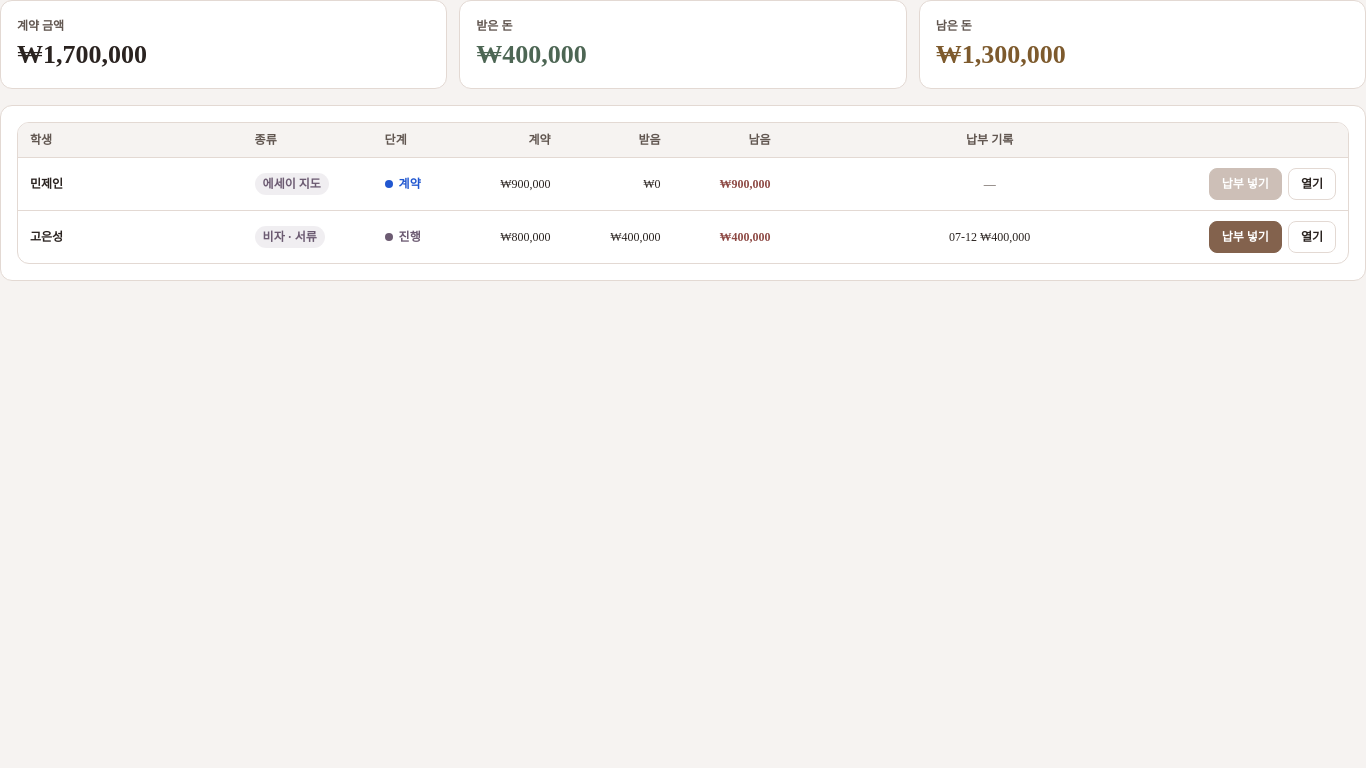
Scenario: 「청구서로 전환」은 서버의 canInvoice 를 따른다 — 화면이 단계를 다시 읽지 않는다 (D-R39)
What coordinates should you click on to do the following:
click the button "열기" in the row of "민제인"
I would click on:
 (1312, 184)
Its box is [1288, 168, 1336, 200].
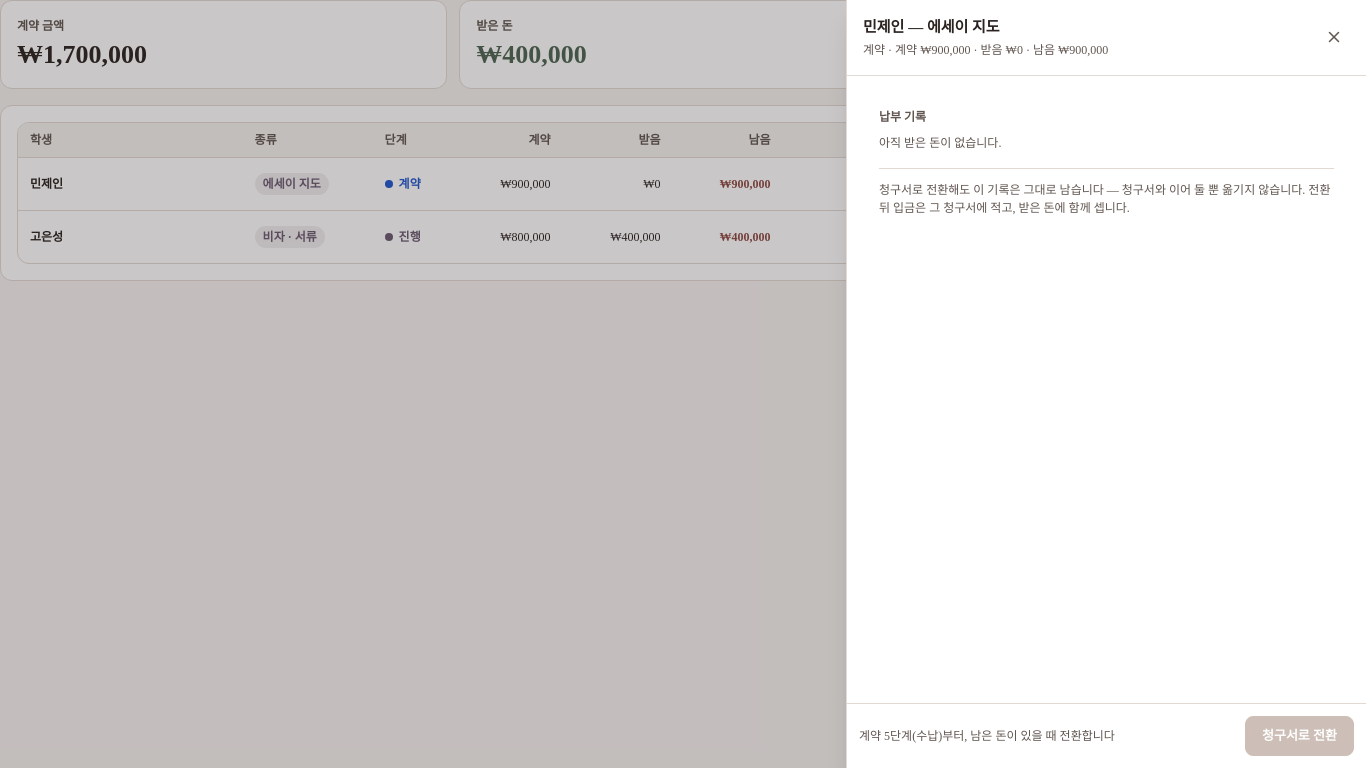
Check: the button "청구서로 전환" is disabled, box [1245, 716, 1354, 756]
Check: the text "계약 5단계(수납)부터, 남은 돈이 있을 때 전환합니다" is shown, box [859, 727, 1115, 745]
